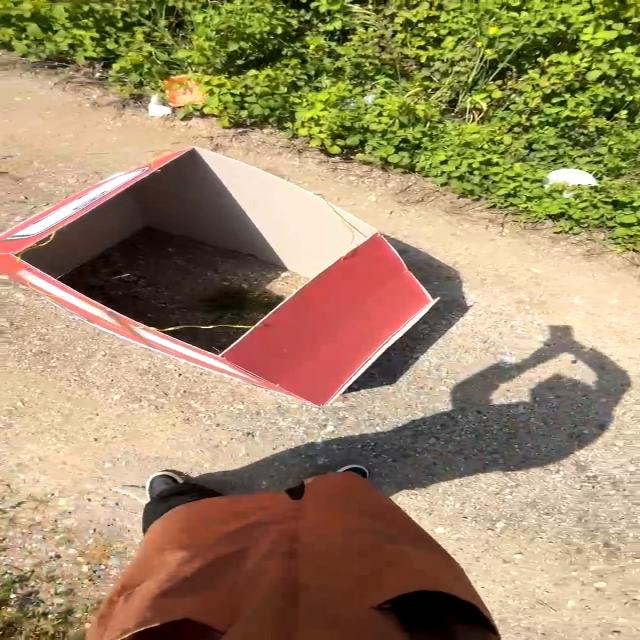red_car: (0, 139, 498, 421)
